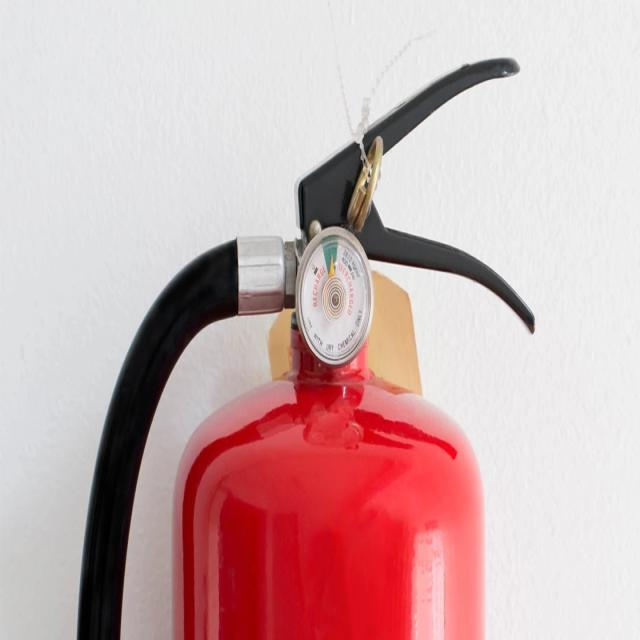pressure gauge: (297, 228, 372, 364)
